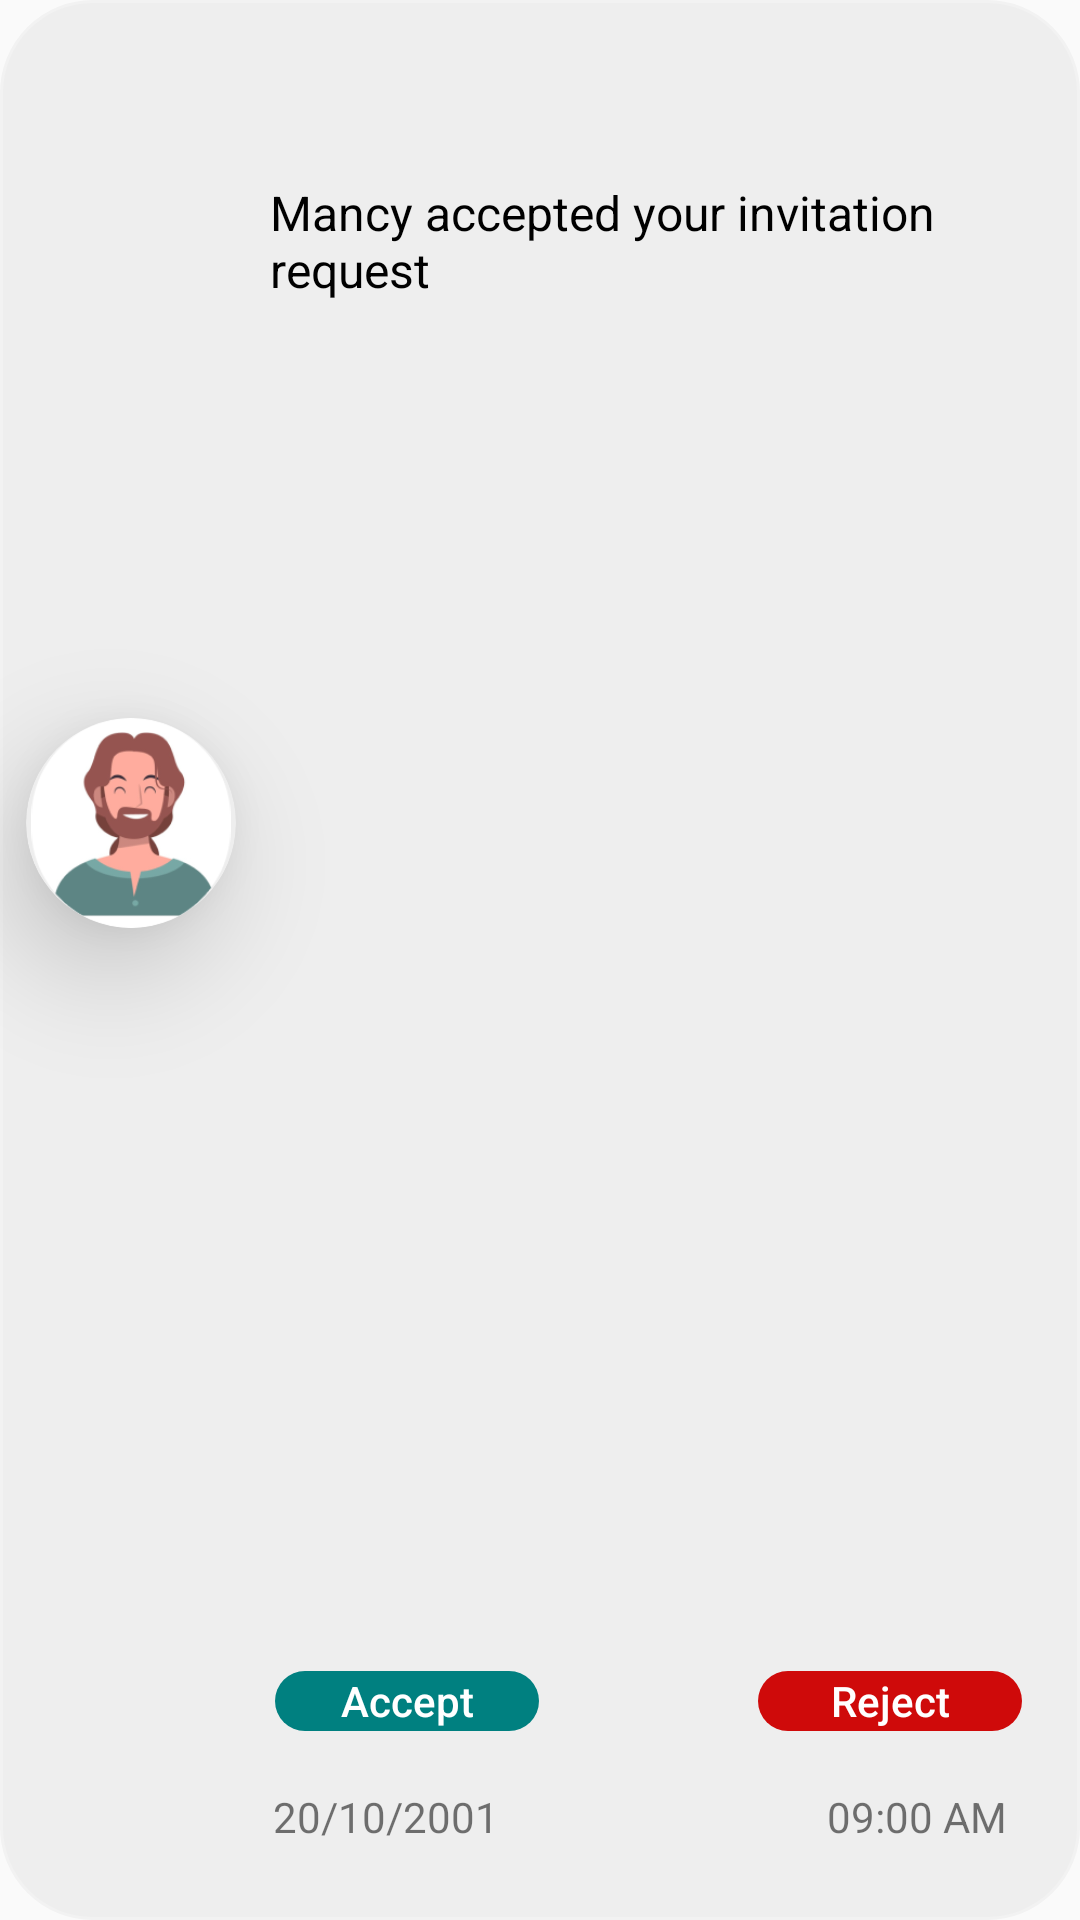

Named icons in this screenshot (1080px×1920px) and their centers, point (x, y):
user: point (131, 823)
